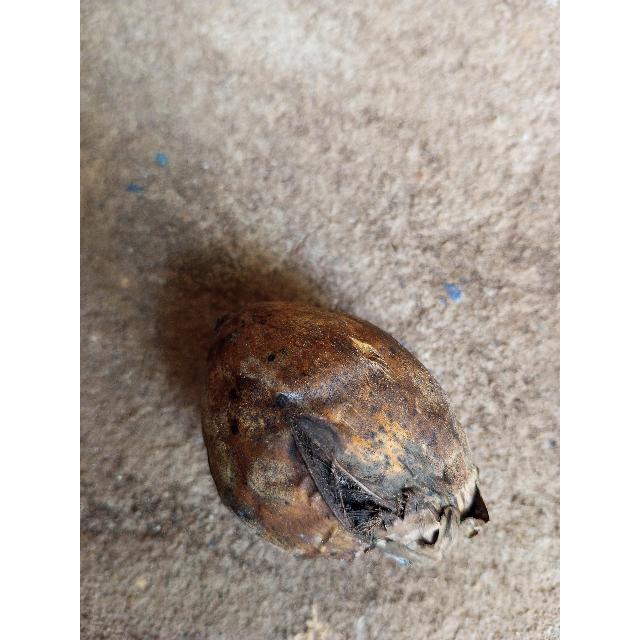damaged: (192, 298, 489, 561)
